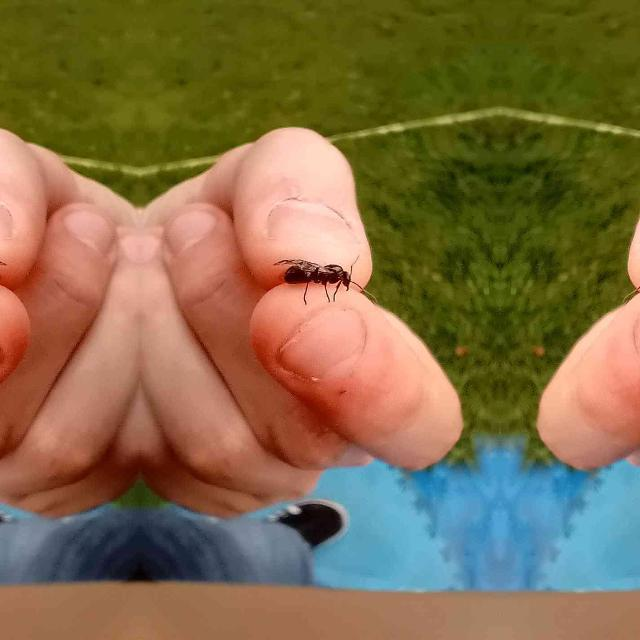Formica: (278, 244, 358, 302)
